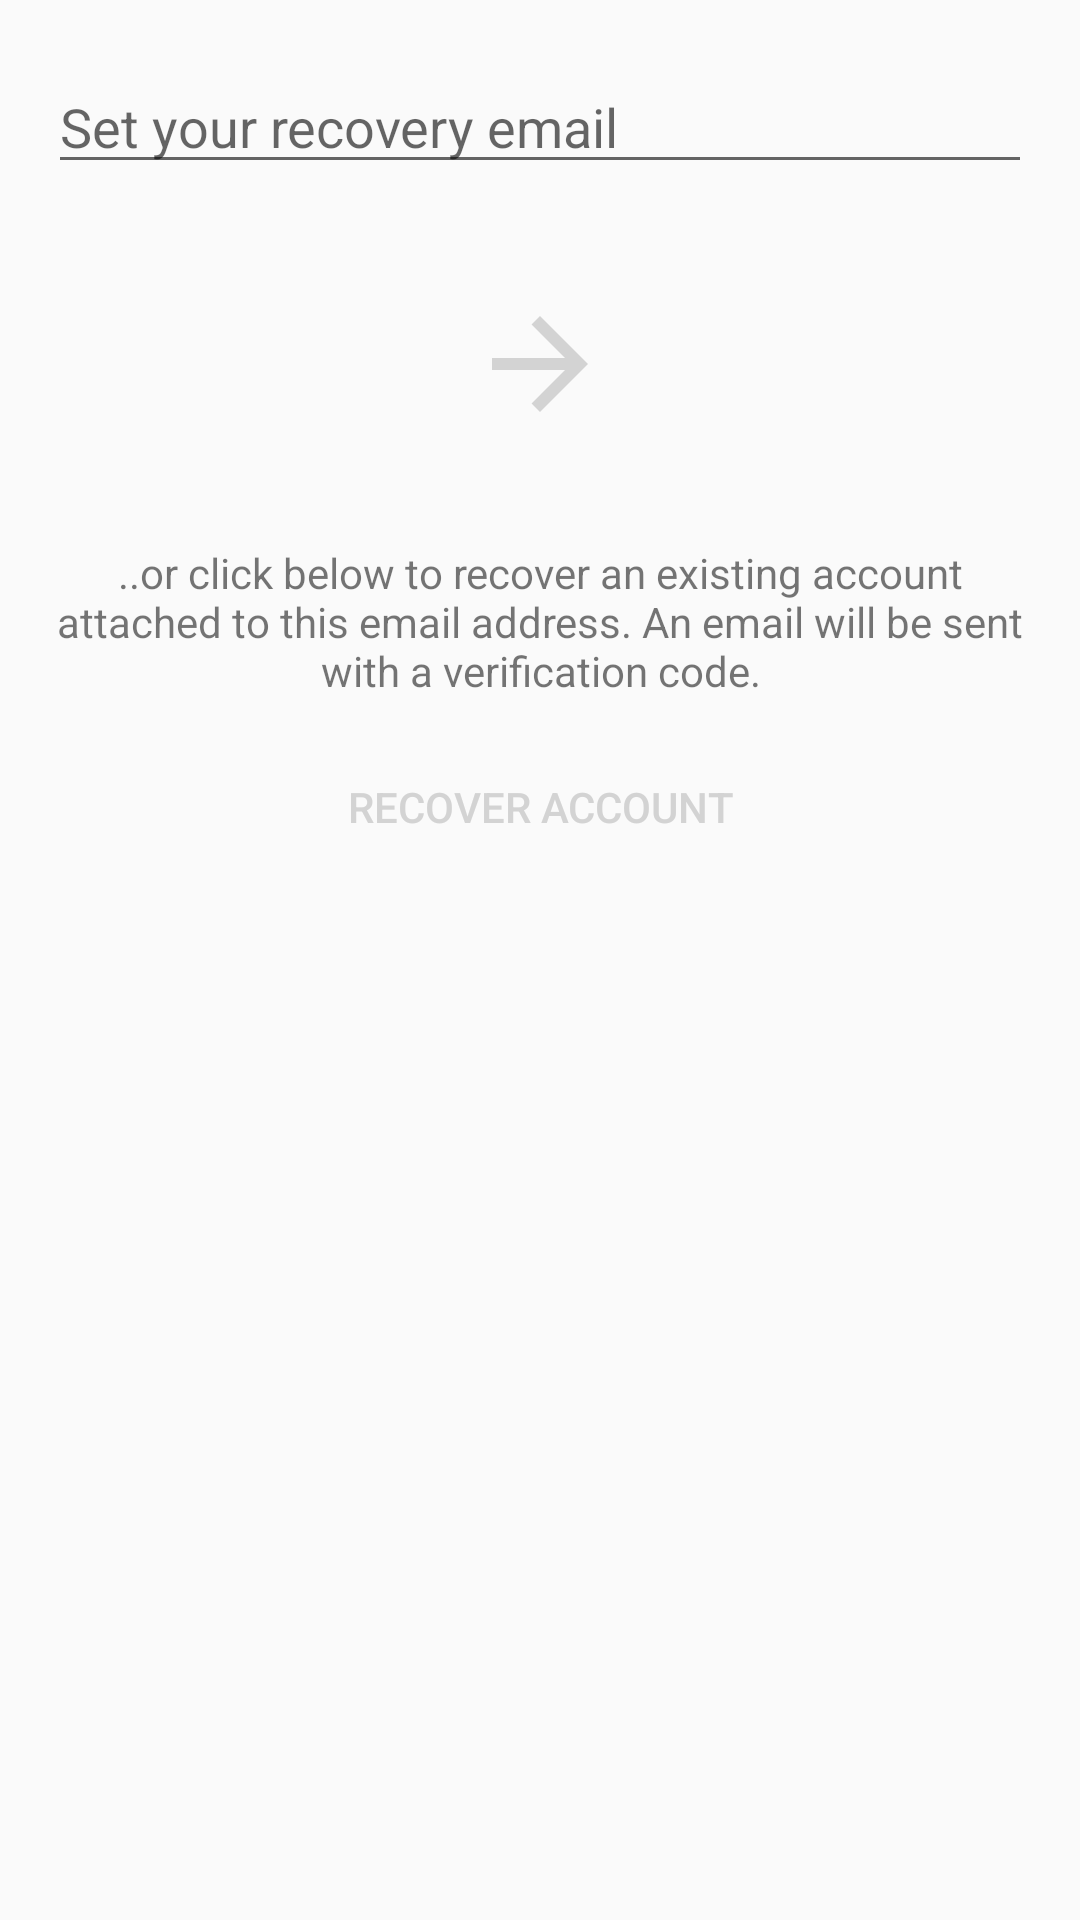

Icon bounding boxes for this 1080w x 1920h phone screenshot, format {"x1": x1, "y1": y1, "x2": x2, "y2": y2}:
arrow forward: {"x1": 492, "y1": 317, "x2": 587, "y2": 411}
